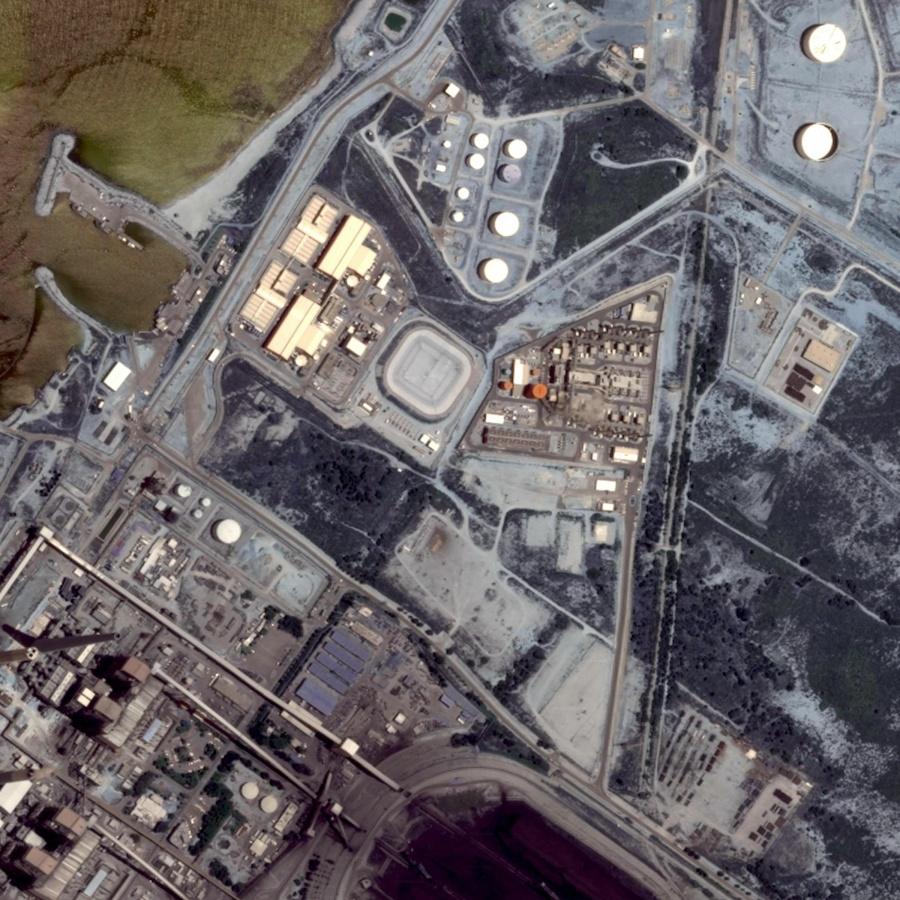PowerPlant: (368, 82, 600, 296)
